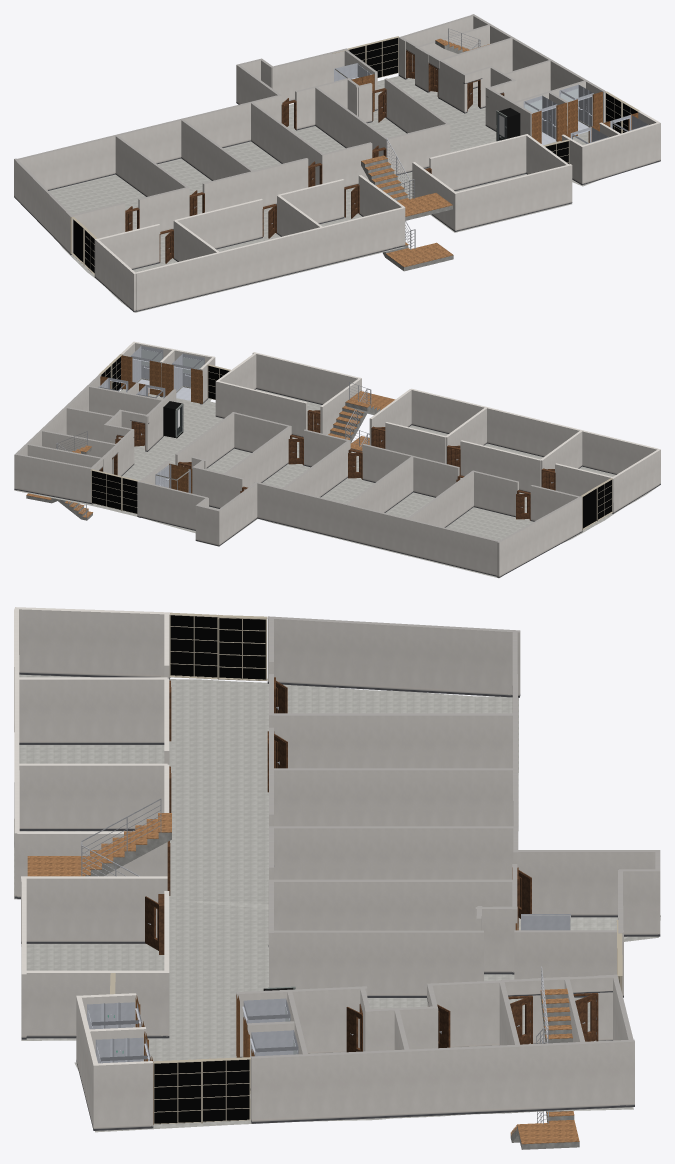
File: TorreInnovacionCasilleros_v2.glb
The picture shows the model from 3 angles, top to bottom: view 1: azimuth 30°, elevation 25°; view 2: azimuth 150°, elevation 25°; view 3: azimuth 270°, elevation 25°; orthographic projection. The views are drawn at different scales.
Visible parts, largest first — view 1: Paredes.023, Piso, Paredes.001, Paredes.032, Paredes.030, Cubo.028, Paredes.025, Paredes, Paredes.012, Paredes.013, Paredes.005, Paredes.017 (+35 smaller); view 2: Paredes.001, Piso, Paredes.023, Paredes, Paredes.032, Paredes.030, Cubo.017, Paredes.025, Paredes.005, Paredes.012, Paredes.018, Paredes.022 (+41 smaller); view 3: Piso, Cubo.016, Paredes, Paredes.018, Paredes.017, Paredes.013, Paredes.010, Paredes.012, Paredes.022, Paredes.024, Paredes.026, Paredes.029 (+32 smaller).
Boxes of the visible parts, box(x1,y1,x2,y2) form: Paredes.023: box(135, 207, 405, 311); Piso: box(15, 76, 659, 312); Paredes.001: box(15, 95, 282, 190); Paredes.032: box(455, 164, 572, 231); Paredes.030: box(429, 134, 527, 191); Cubo.028: box(583, 122, 658, 184); Paredes.025: box(175, 199, 262, 249); Paredes: box(14, 158, 73, 255); Paredes.012: box(315, 87, 389, 162); Paredes.013: box(250, 102, 323, 185); Paredes.005: box(271, 48, 347, 102); Paredes.017: box(115, 135, 187, 196); Paredes.001: box(255, 482, 500, 576); Piso: box(14, 389, 658, 578); Paredes.023: box(411, 388, 658, 474); Paredes: box(497, 496, 582, 577); Paredes.032: box(252, 352, 360, 404); Paredes.030: box(215, 381, 307, 437); Cubo.017: box(17, 454, 92, 504); Paredes.025: box(460, 440, 540, 492); Paredes.005: box(137, 481, 207, 530); Paredes.012: box(224, 425, 291, 490); Paredes.018: box(346, 456, 413, 512); Paredes.022: box(611, 449, 660, 513); Piso: box(14, 674, 660, 1132); Cubo.016: box(251, 1039, 634, 1123); Paredes: box(267, 616, 520, 697); Paredes.018: box(273, 768, 515, 826); Paredes.017: box(272, 713, 512, 768); Paredes.013: box(274, 826, 515, 879); Paredes.010: box(269, 930, 483, 997); Paredes.012: box(268, 879, 512, 946); Paredes.022: box(14, 607, 170, 679); Paredes.024: box(19, 677, 167, 744); Paredes.026: box(17, 763, 167, 830); Paredes.029: box(21, 876, 167, 943).
Size of the model in its own units: 95.87 by 20.54 by 57.16.
Materials: 40 (8 with a texture image).
